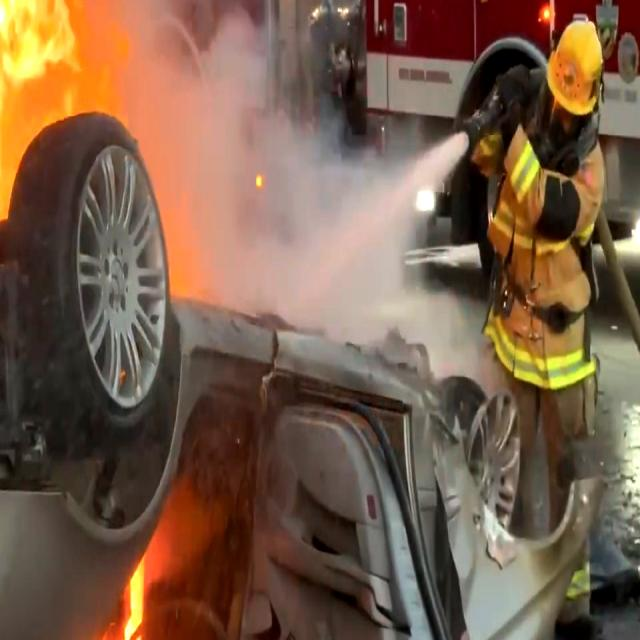fire: (0, 0, 76, 251)
